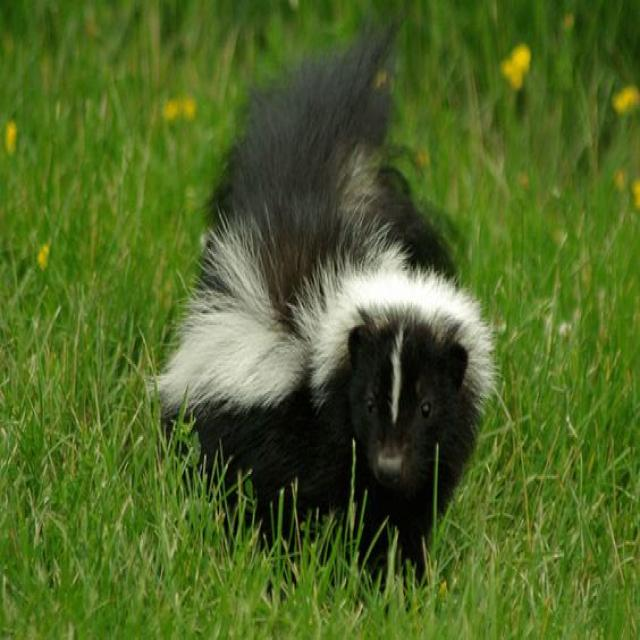Skunk: (154, 4, 496, 576)
